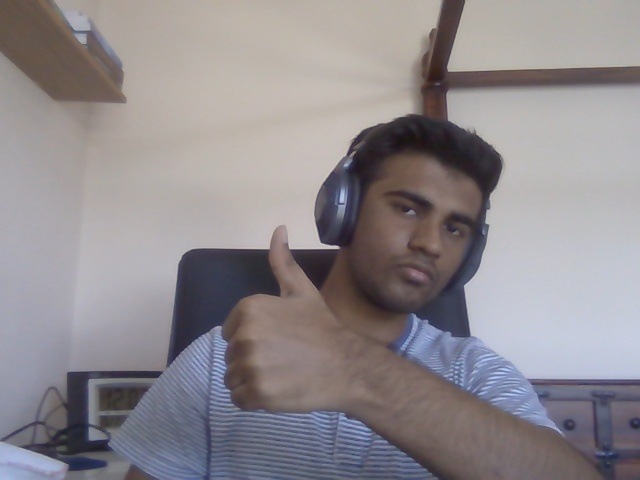Yes: (222, 225, 334, 414)
